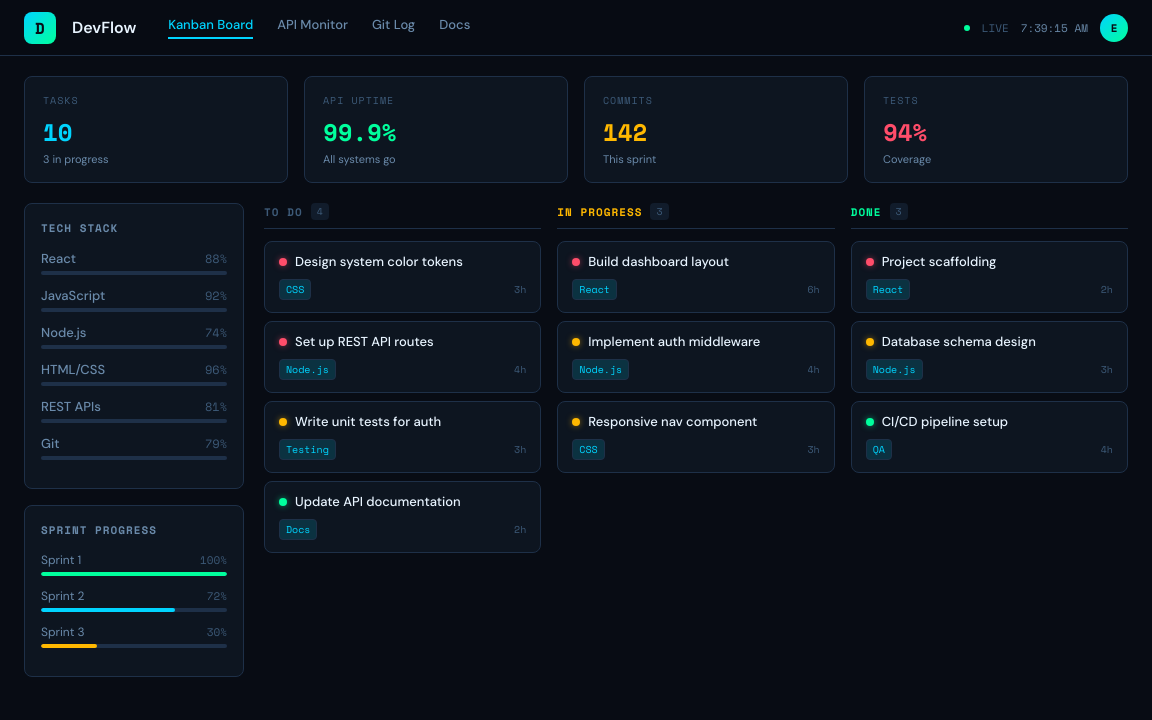
it: App › switches the visible panel when a nav tab is clicked
The image size is (1152, 720).
Click the text "API Monitor" at coordinates (313, 28), box left=277, top=16, right=348, bottom=39
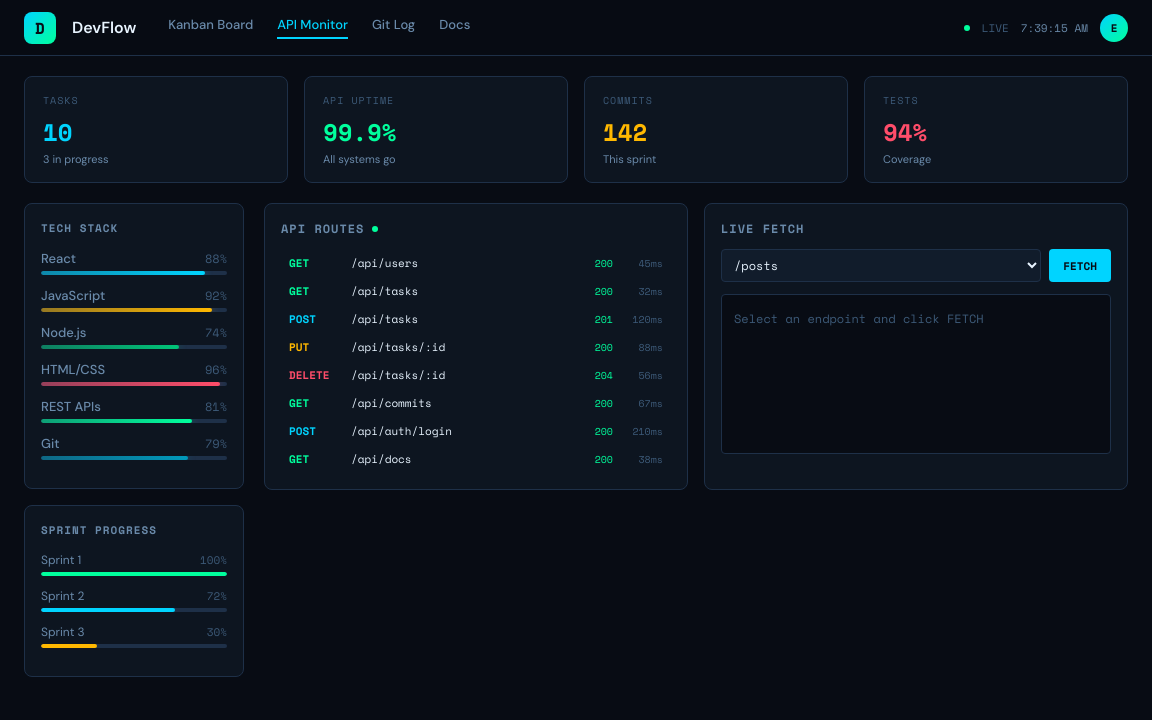
Expected: the text "Live Fetch" is shown, left=721, top=220, right=804, bottom=237
